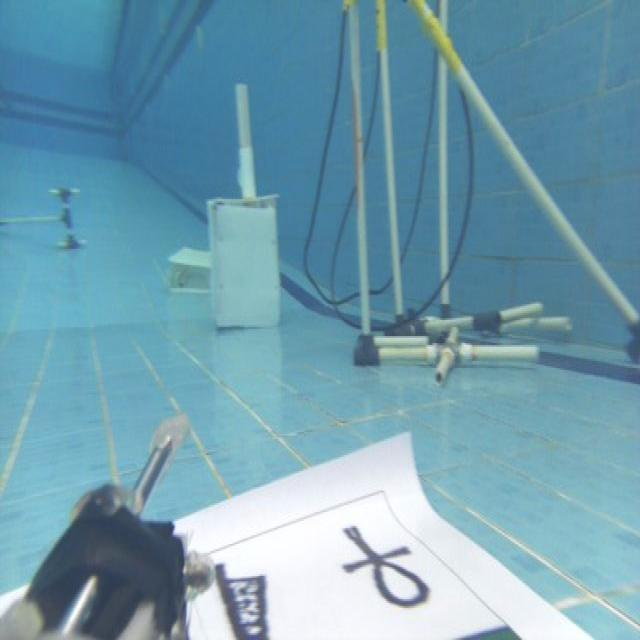Cube: (205, 190, 282, 329)
Cuboid: (166, 244, 211, 294)
